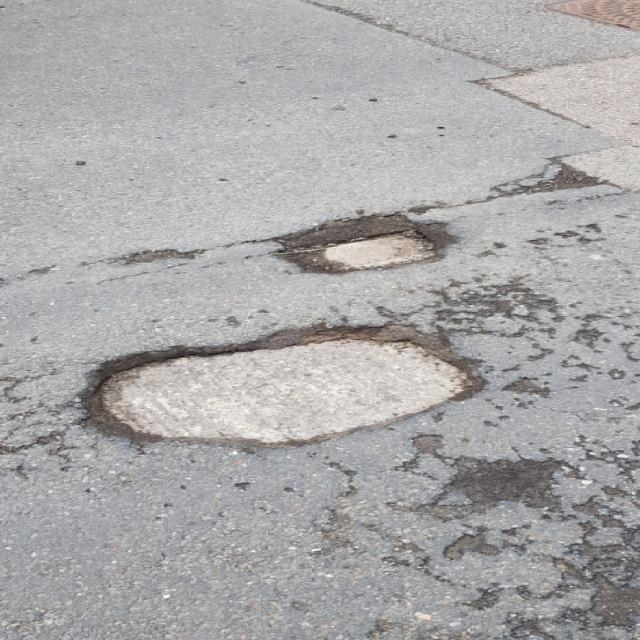pothole: (63, 312, 494, 451), (260, 210, 466, 274)
